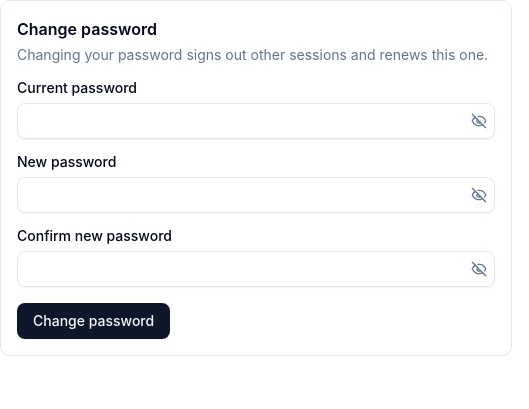
Scenario: Password form › validates Current-test-password without sending a request
This screenshot has width=529, height=409.
Type "Current-test-password" into the password field labelled "Current password" at (256,121), box [17,103,495,139]
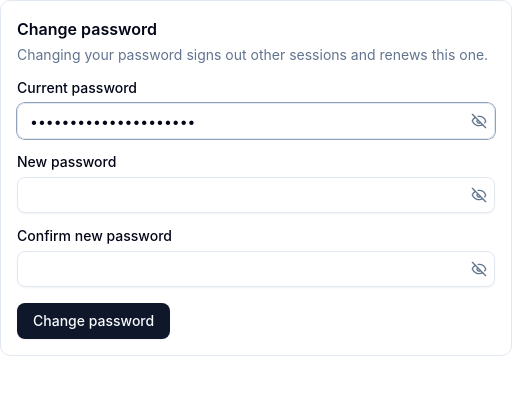
Type "Current-test-password" into the password field labelled "New password" at (256,195), box [17,177,495,213]
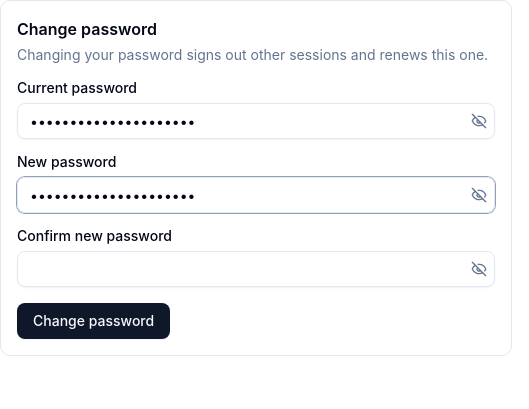
Type "Current-test-password" into the password field labelled "Confirm new password" at (256,269), box [17,251,495,287]
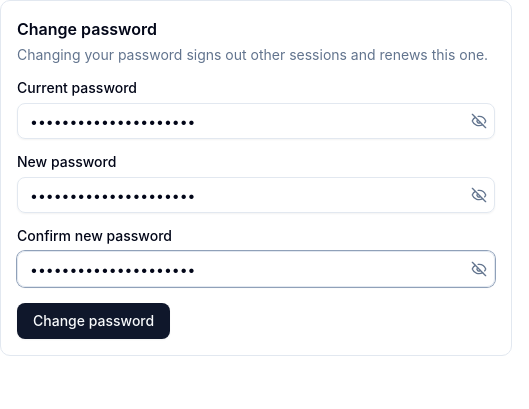
Click the button "Change password" at (94,321), box [17,303,170,339]
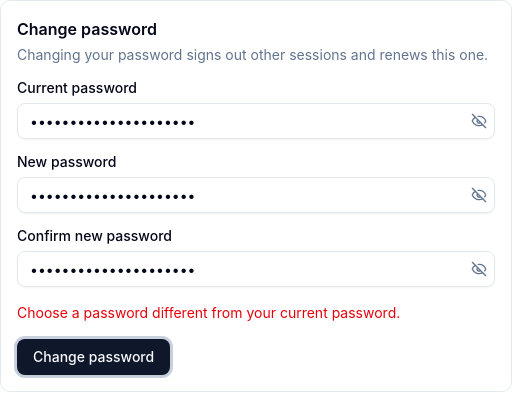
expect the message shows "different from": met, box [17,304,400,321]
